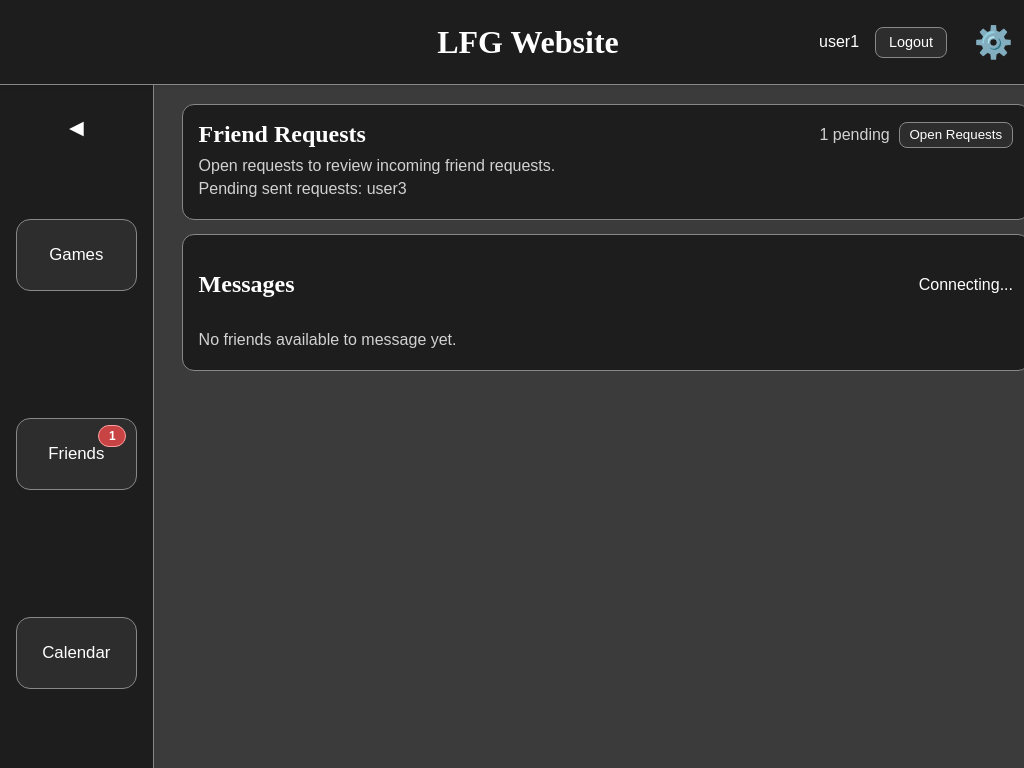
friends_page › shows requests and handles accept and reject
Click the button with class "friend-requests-toggle-btn".
click(956, 135)  # box [899,122,1013,148]
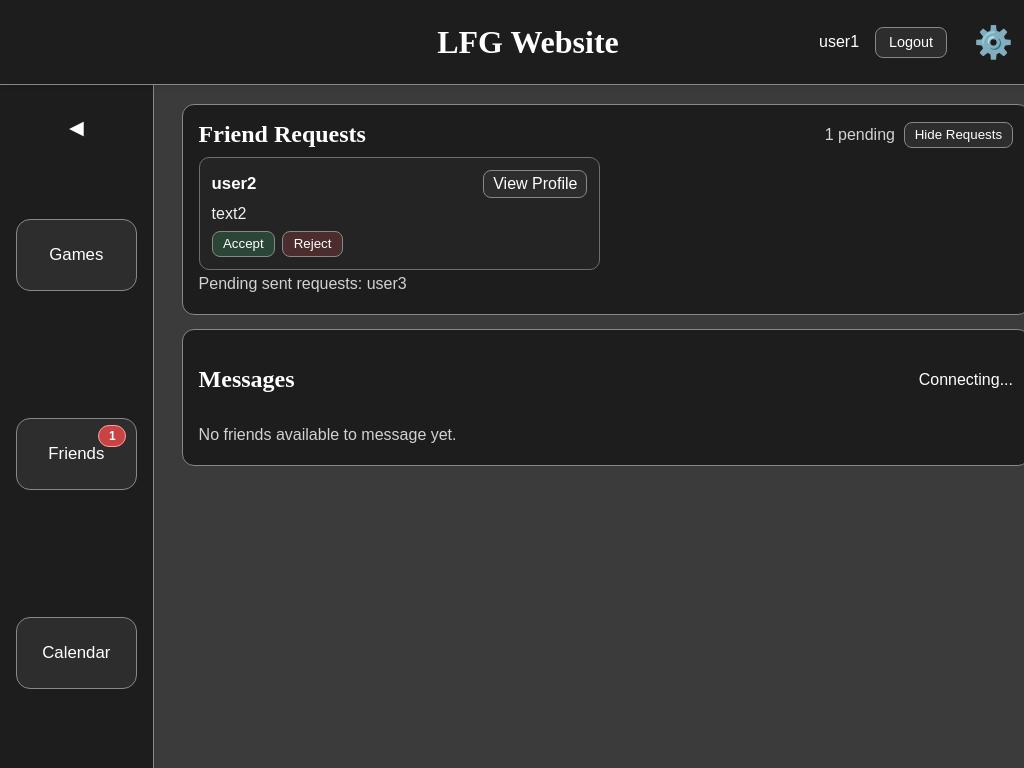
Expected: the text "Pending sent requests: user3" is shown, [199,275,407,292]
Expected: the text with class "friend-name" reads "user2", [212,174,257,193]
Click the button "Accept".
click(244, 245)  # box [212,231,276,258]
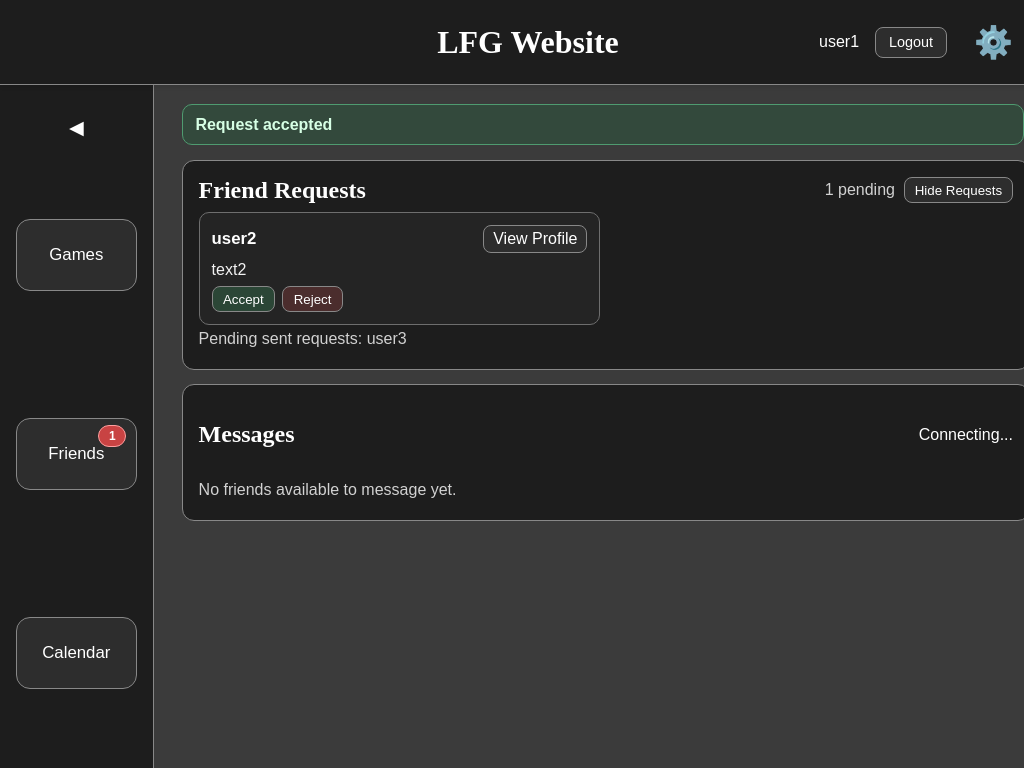
Expected: the text "Request accepted" is shown, [182,104,1023,145]
Open "http://localhost:3000/friends"
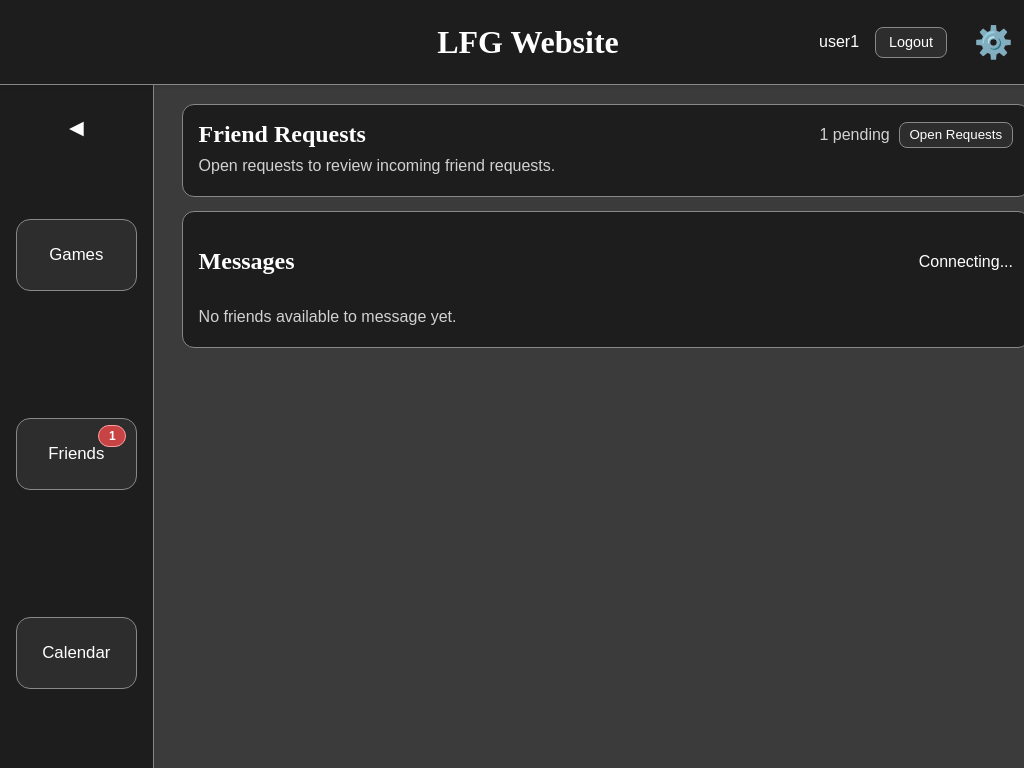
Click the button with class "friend-requests-toggle-btn".
click(956, 135)  # box [899,122,1013,148]
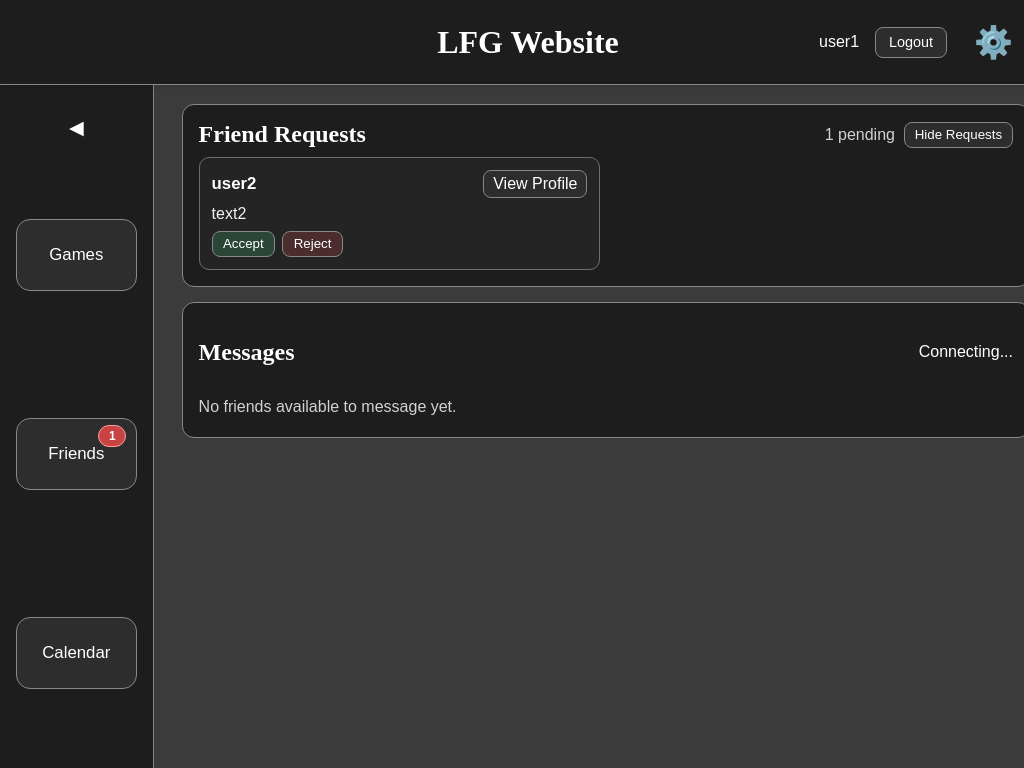
Click the button "Reject".
click(313, 245)  # box [282,231,343,258]
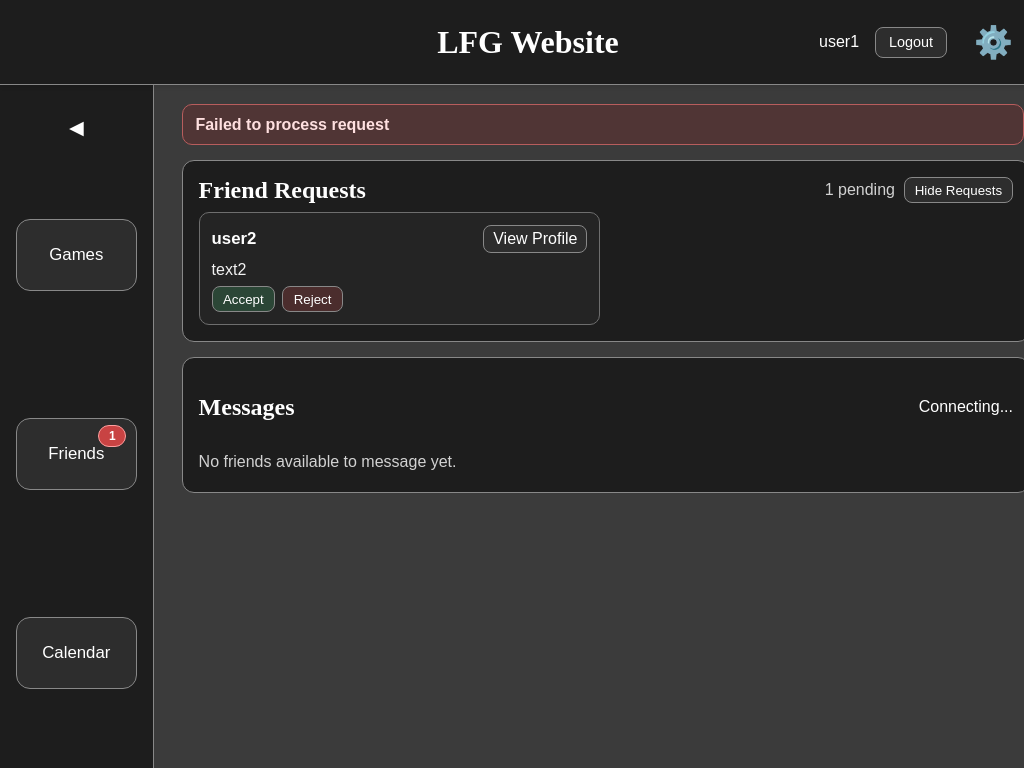
Expected: the text "Failed to process request" is shown, [182,104,1023,145]
